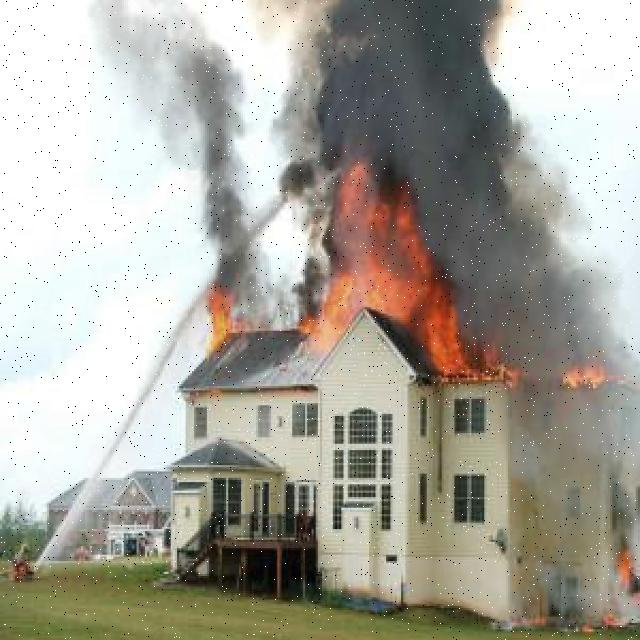fire: (312, 152, 456, 354), (446, 354, 523, 393), (552, 358, 621, 401), (204, 262, 234, 358), (610, 518, 640, 596)
smoke: (454, 45, 632, 333), (166, 15, 262, 267)
